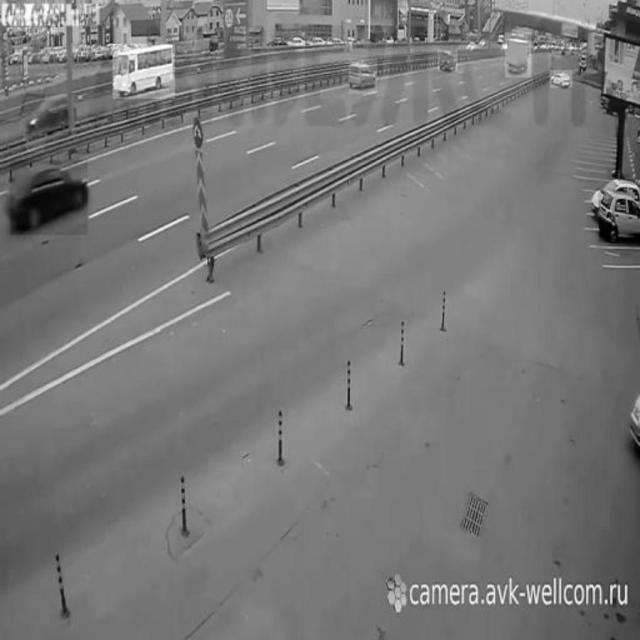vehicle: (10, 160, 88, 236), (112, 45, 176, 100), (599, 191, 640, 243), (21, 95, 71, 135), (506, 33, 532, 78), (349, 59, 377, 94), (438, 50, 458, 70), (550, 71, 572, 88)
